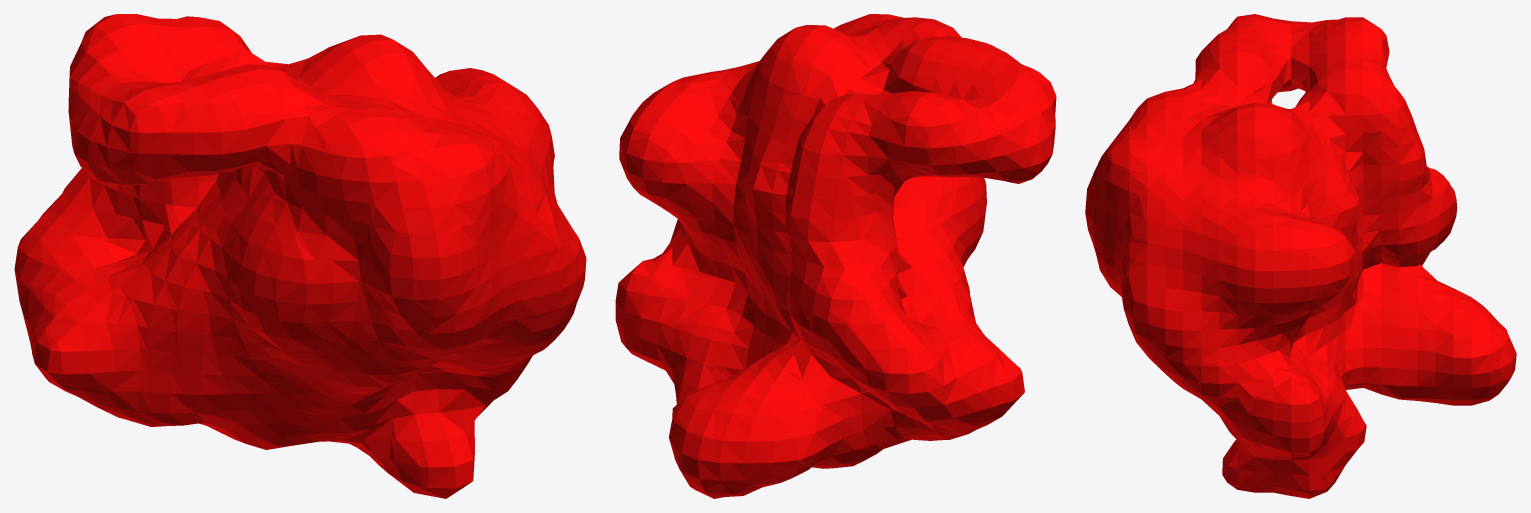
Rendered from rpsG_coarse.dae.
3 renders of one model, left to right at view 1: azimuth 30°, elevation 25°; view 2: azimuth 150°, elevation 25°; view 3: azimuth 270°, elevation 25°, orthographic. The views are drawn at different scales.
Parts seen in each view (by area): view 1: rpsG; view 2: rpsG; view 3: rpsG.
Boxes of the visible parts, x1=… form: rpsG: x1=14, y1=14, x2=586, y2=498; rpsG: x1=615, y1=14, x2=1056, y2=498; rpsG: x1=1085, y1=14, x2=1516, y2=498.
Size of the model in its own units: 51.08 by 51.5 by 53.23.
